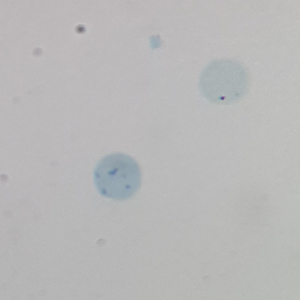aggregate reticulocyte: (91, 151, 144, 202)
erythrocyte: (197, 58, 252, 108)
